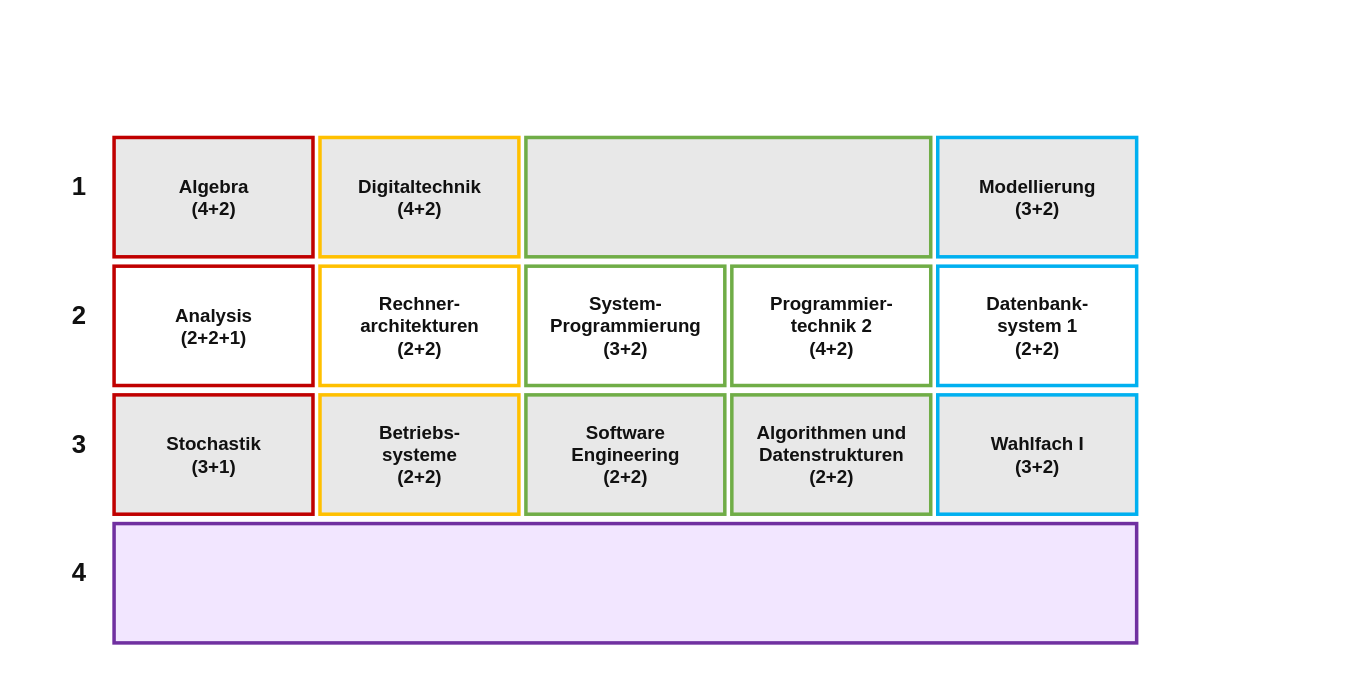
Some shapes in this 1350 by 695 pixel diagram are drawn without their labels. The shapes that lost their labels are listed below. From the top down, each one's centre as x and y in pixels, then its label:
the point at 728,196: Programmiertechnik 1 (4+2)
the point at 625,582: Praxissemester
